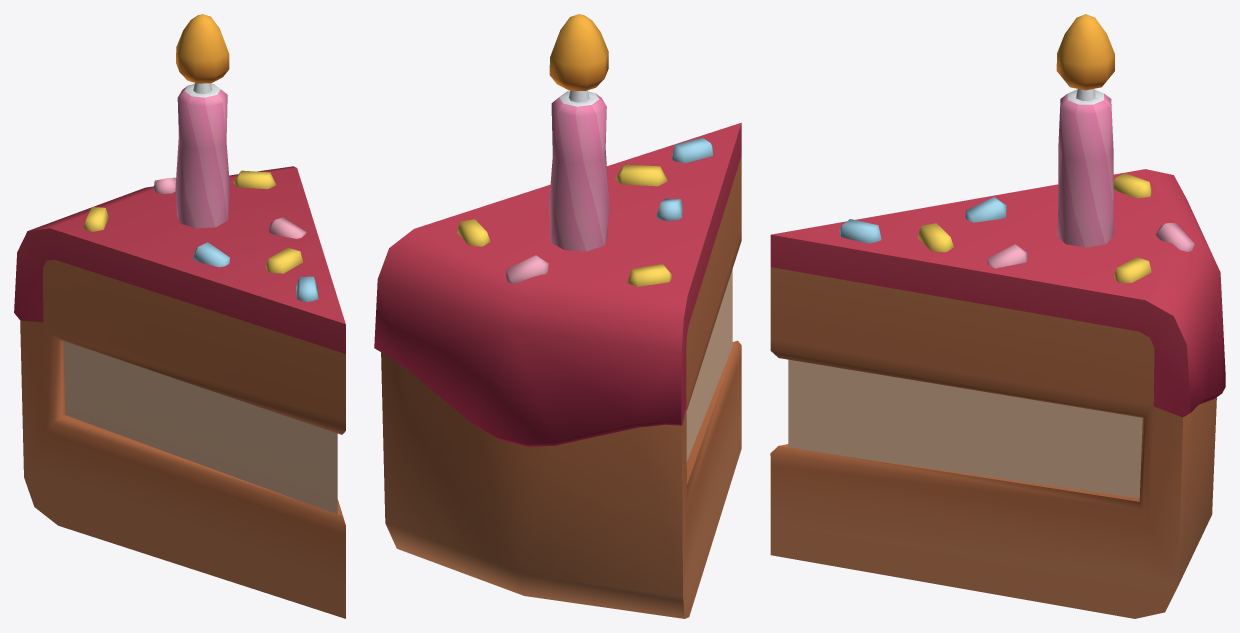
The model's file is Cake Birthday Slice.glb.
3 views of the same model, side by side, from view 1: azimuth 30°, elevation 25°; view 2: azimuth 150°, elevation 25°; view 3: azimuth 270°, elevation 25° (orthographic). The views are drawn at different scales.
Parts seen in each view (by area): view 1: cake_birthday_slice, cake_birthday_slice_candle_fire; view 2: cake_birthday_slice, cake_birthday_slice_candle_fire; view 3: cake_birthday_slice, cake_birthday_slice_candle_fire.
Part boxes in pixels (x1,y1,x2,y2): cake_birthday_slice: (14,83,345,618); cake_birthday_slice_candle_fire: (176,14,229,83); cake_birthday_slice: (374,90,741,618); cake_birthday_slice_candle_fire: (549,14,608,90); cake_birthday_slice: (770,89,1225,618); cake_birthday_slice_candle_fire: (1056,14,1114,90).
Bounding box in the file's own units: 0.4668 × 0.8021 × 0.6102.
1 material, 1 textured.
